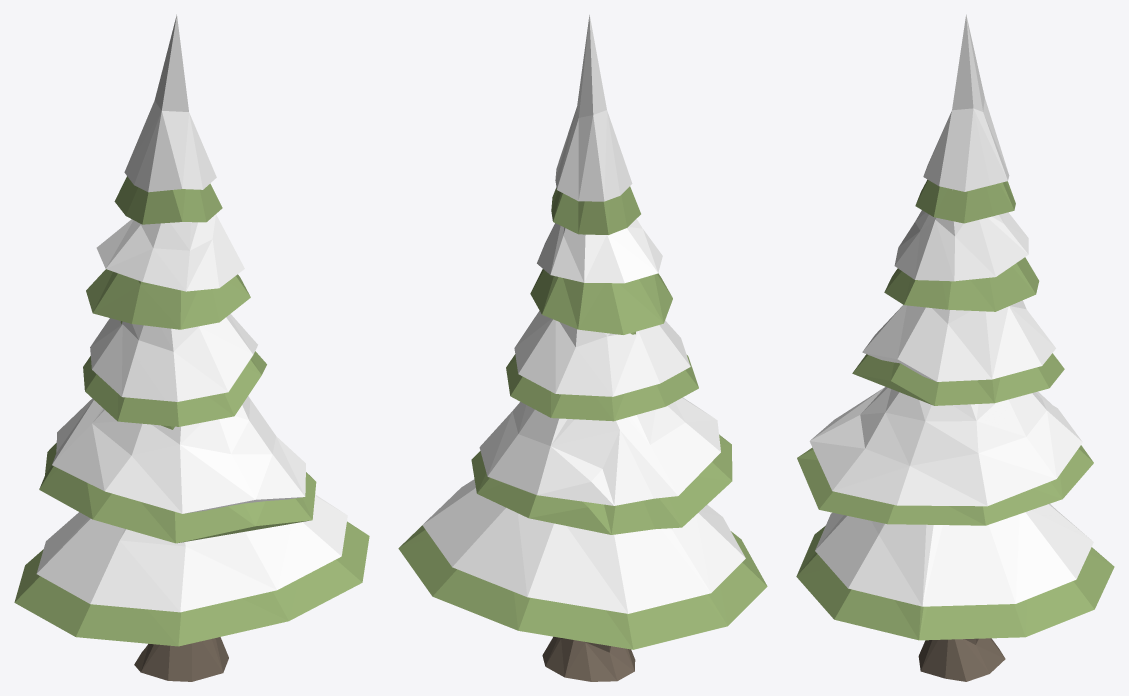
The model's file is tree 2.fbx.
The picture shows the model from 3 angles, left to right: view 1: azimuth 30°, elevation 25°; view 2: azimuth 150°, elevation 25°; view 3: azimuth 270°, elevation 25°; orthographic projection.
Visible parts, largest first — view 1: LowPolyFirTree_02; view 2: LowPolyFirTree_02; view 3: LowPolyFirTree_02.
Boxes of the visible parts, bbox=[...] form: LowPolyFirTree_02: bbox=[14, 14, 369, 681]; LowPolyFirTree_02: bbox=[398, 15, 767, 681]; LowPolyFirTree_02: bbox=[796, 14, 1114, 681].
Bounding box in the file's own units: 366 × 711 × 317.
